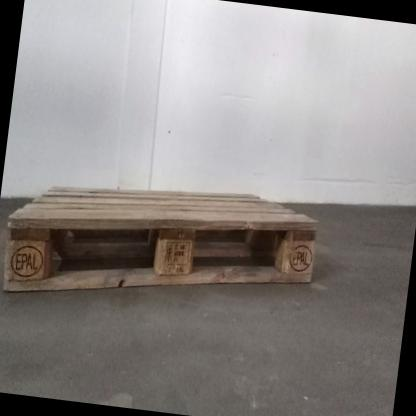BoxFace: (0, 184, 323, 295)
